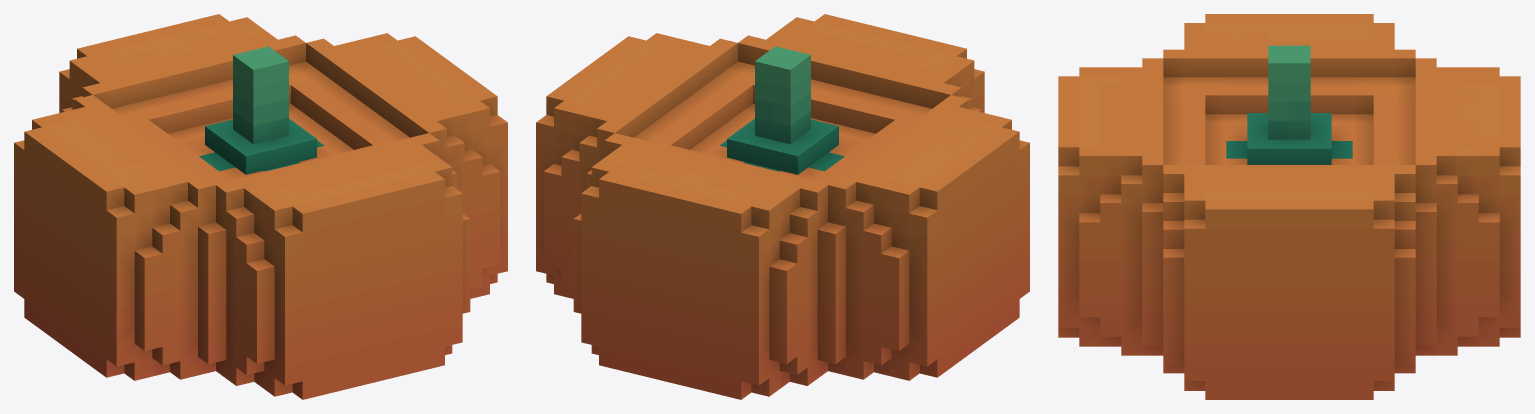
Rendered from pumpkin.glb.
The picture shows the model from 3 angles, left to right: view 1: azimuth 30°, elevation 25°; view 2: azimuth 150°, elevation 25°; view 3: azimuth 270°, elevation 25°; orthographic projection. The views are drawn at different scales.
Parts seen in each view (by area): view 1: voxels; view 2: voxels; view 3: voxels.
Part boxes in pixels (left/top/right/bottom): voxels: left=14, top=14, right=507, bottom=399; voxels: left=536, top=14, right=1029, bottom=399; voxels: left=1058, top=14, right=1520, bottom=399.
Bounding box in the file's own units: 0.4201 × 0.2482 × 0.4201.
